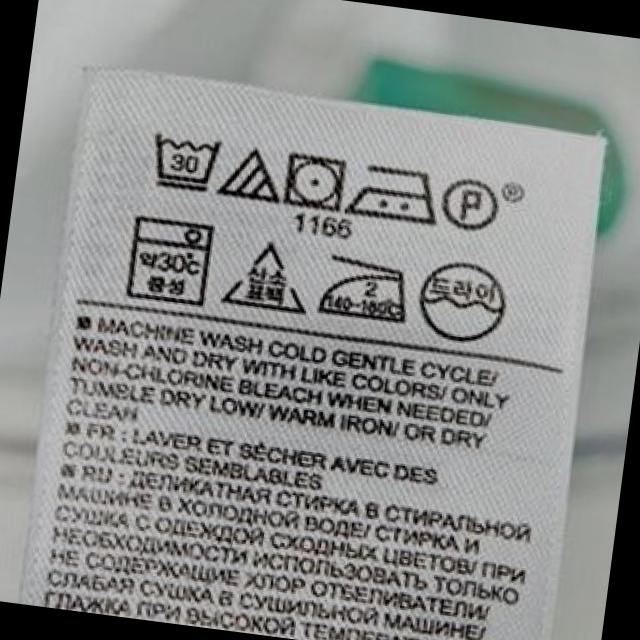30C: (116, 209, 220, 311), (145, 123, 226, 201)
dry_clean: (412, 258, 518, 347)
dry_clean_any_solvent_except_trichloroethylene: (440, 175, 500, 236)
iron_medium: (313, 250, 418, 329), (342, 157, 445, 232)
non_chlorine_bleach: (219, 240, 315, 321), (218, 146, 289, 209)
tumble_dry_low: (280, 150, 353, 212)
